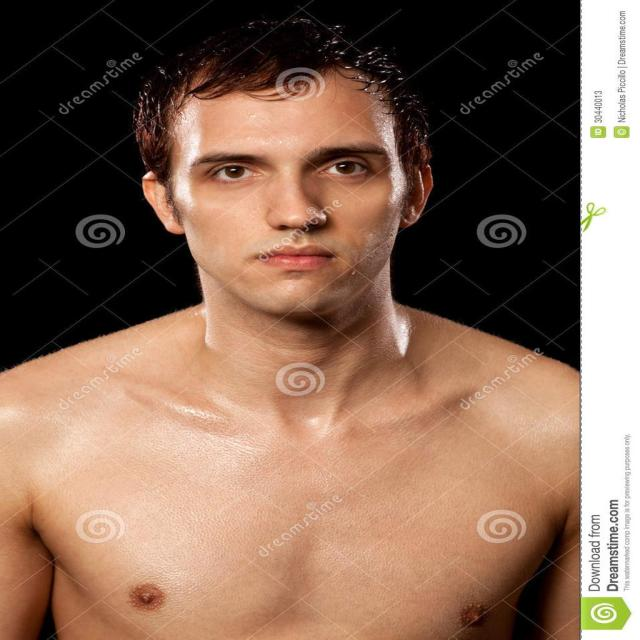Face: (137, 37, 435, 322)
